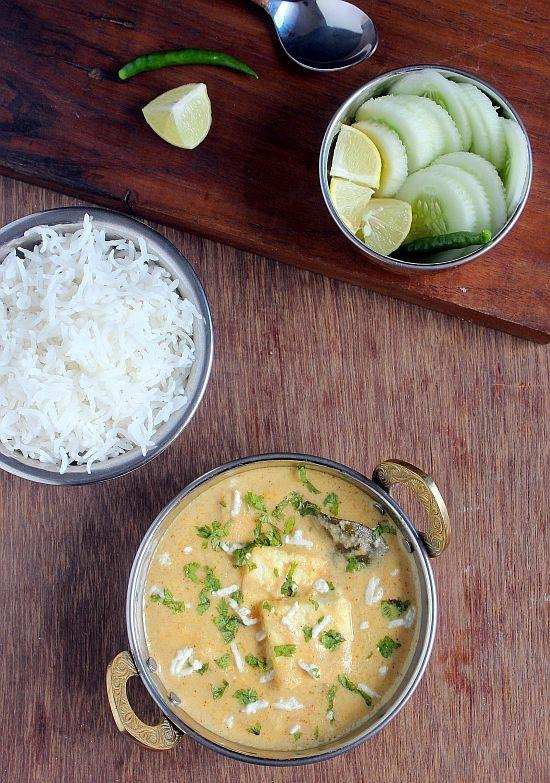ShahiPaneer: (142, 457, 432, 759)
